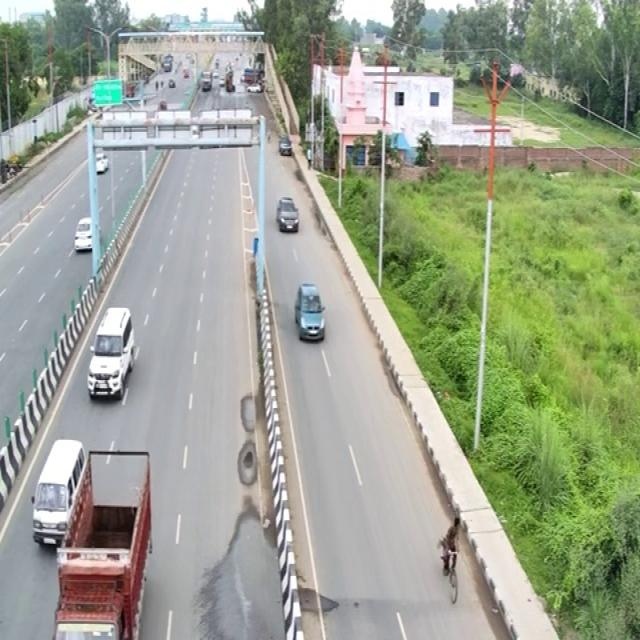car: (39, 326, 122, 413), (112, 226, 185, 301), (388, 208, 437, 257), (365, 142, 404, 175), (94, 160, 130, 192)
